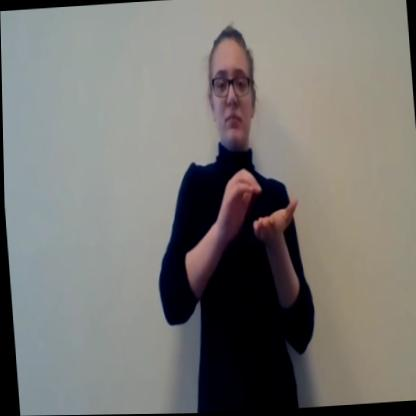ExcuseMe: (135, 17, 325, 413)
